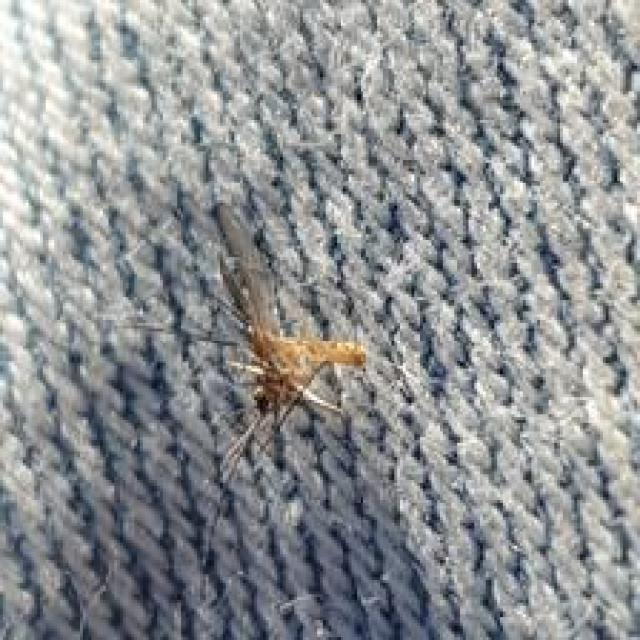Culex: (114, 198, 369, 478)
